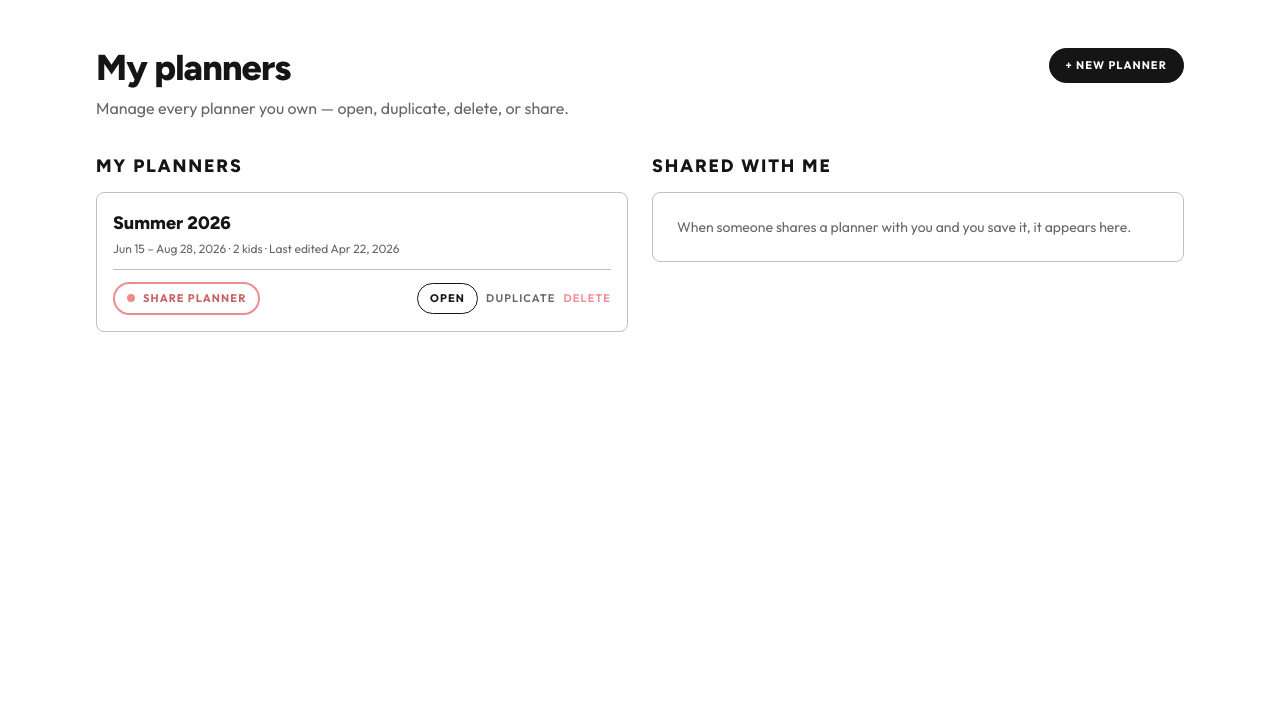
Test: MyPlannersClient › opens the new planner modal from the header button
Click the button "+ New planner": (1116, 65) [1048, 48, 1184, 82]
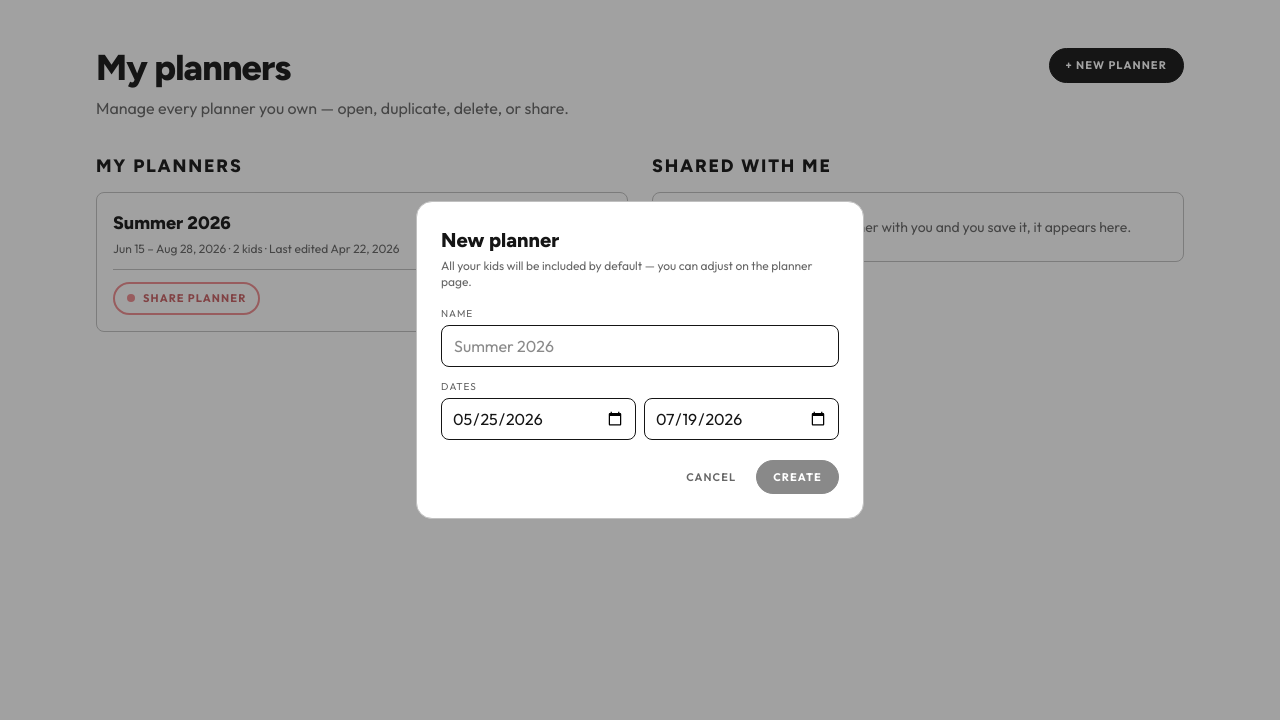
Check: the heading "New planner" is shown, box [441, 228, 559, 252]
